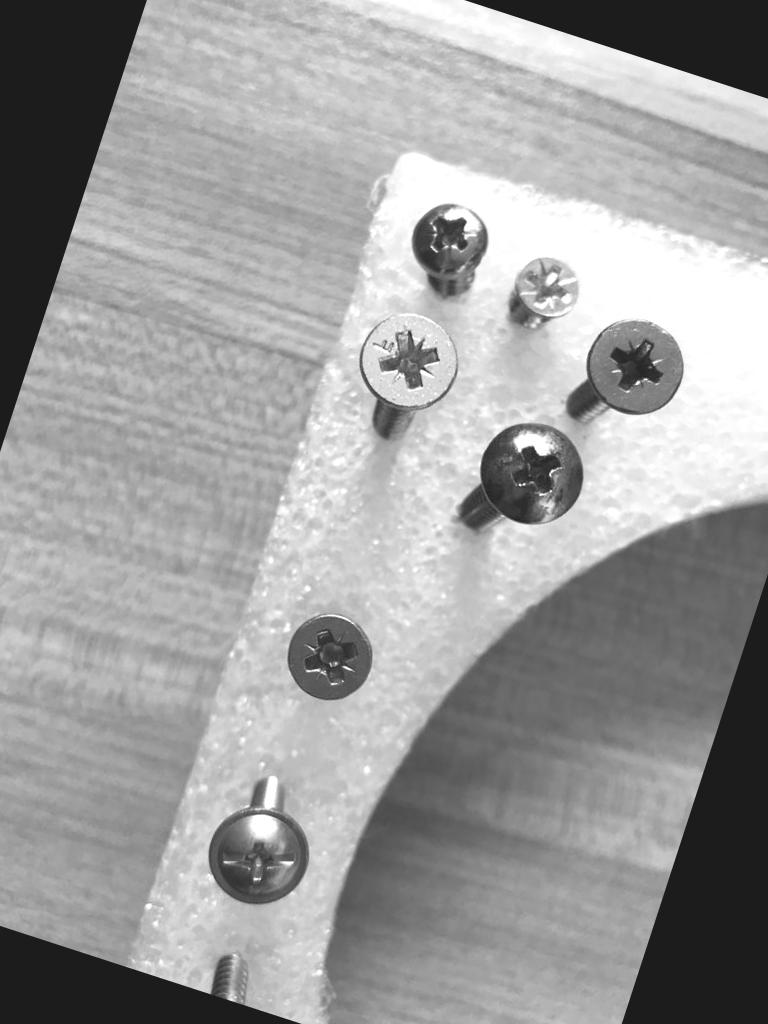philips-PZ: (467, 408, 596, 536), (194, 794, 320, 918), (574, 305, 696, 426), (348, 300, 470, 420), (276, 602, 385, 711), (404, 192, 497, 282), (506, 247, 586, 326)
